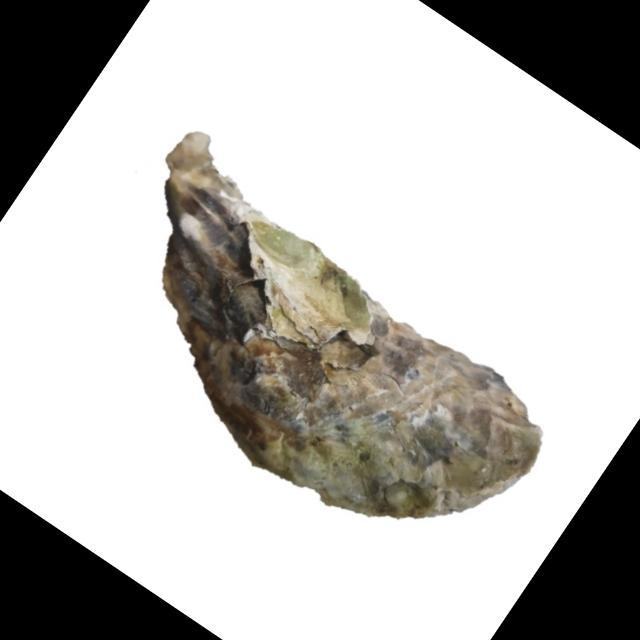Oyster- Indeterminate: (160, 132, 543, 522)
